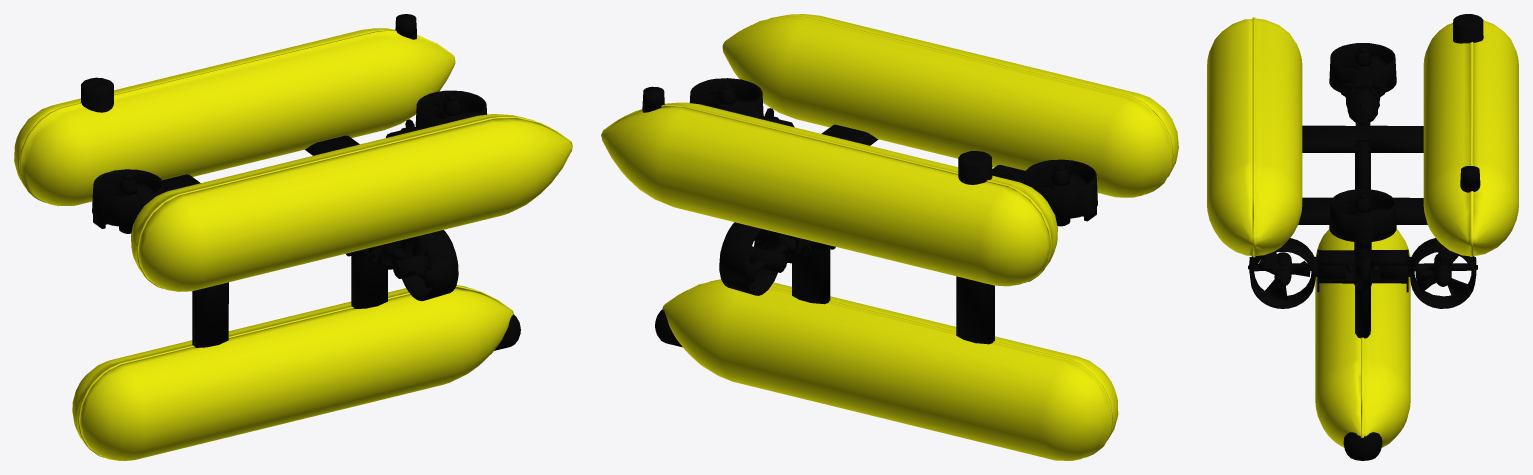
The model's file is G500_grouped.dae.
3 views of the same model, side by side, from view 1: azimuth 30°, elevation 25°; view 2: azimuth 150°, elevation 25°; view 3: azimuth 270°, elevation 25° (orthographic). The views are drawn at different scales.
Parts seen in each view (by area): view 1: Mesh_001; view 2: Mesh_001; view 3: Mesh_001.
Boxes of the visible parts, left/top/right/bottom form: Mesh_001: left=14, top=14, right=572, bottom=460; Mesh_001: left=601, top=14, right=1178, bottom=460; Mesh_001: left=1207, top=14, right=1518, bottom=460.
Size of the model in its own units: 1.52 by 1.01 by 1.07.
